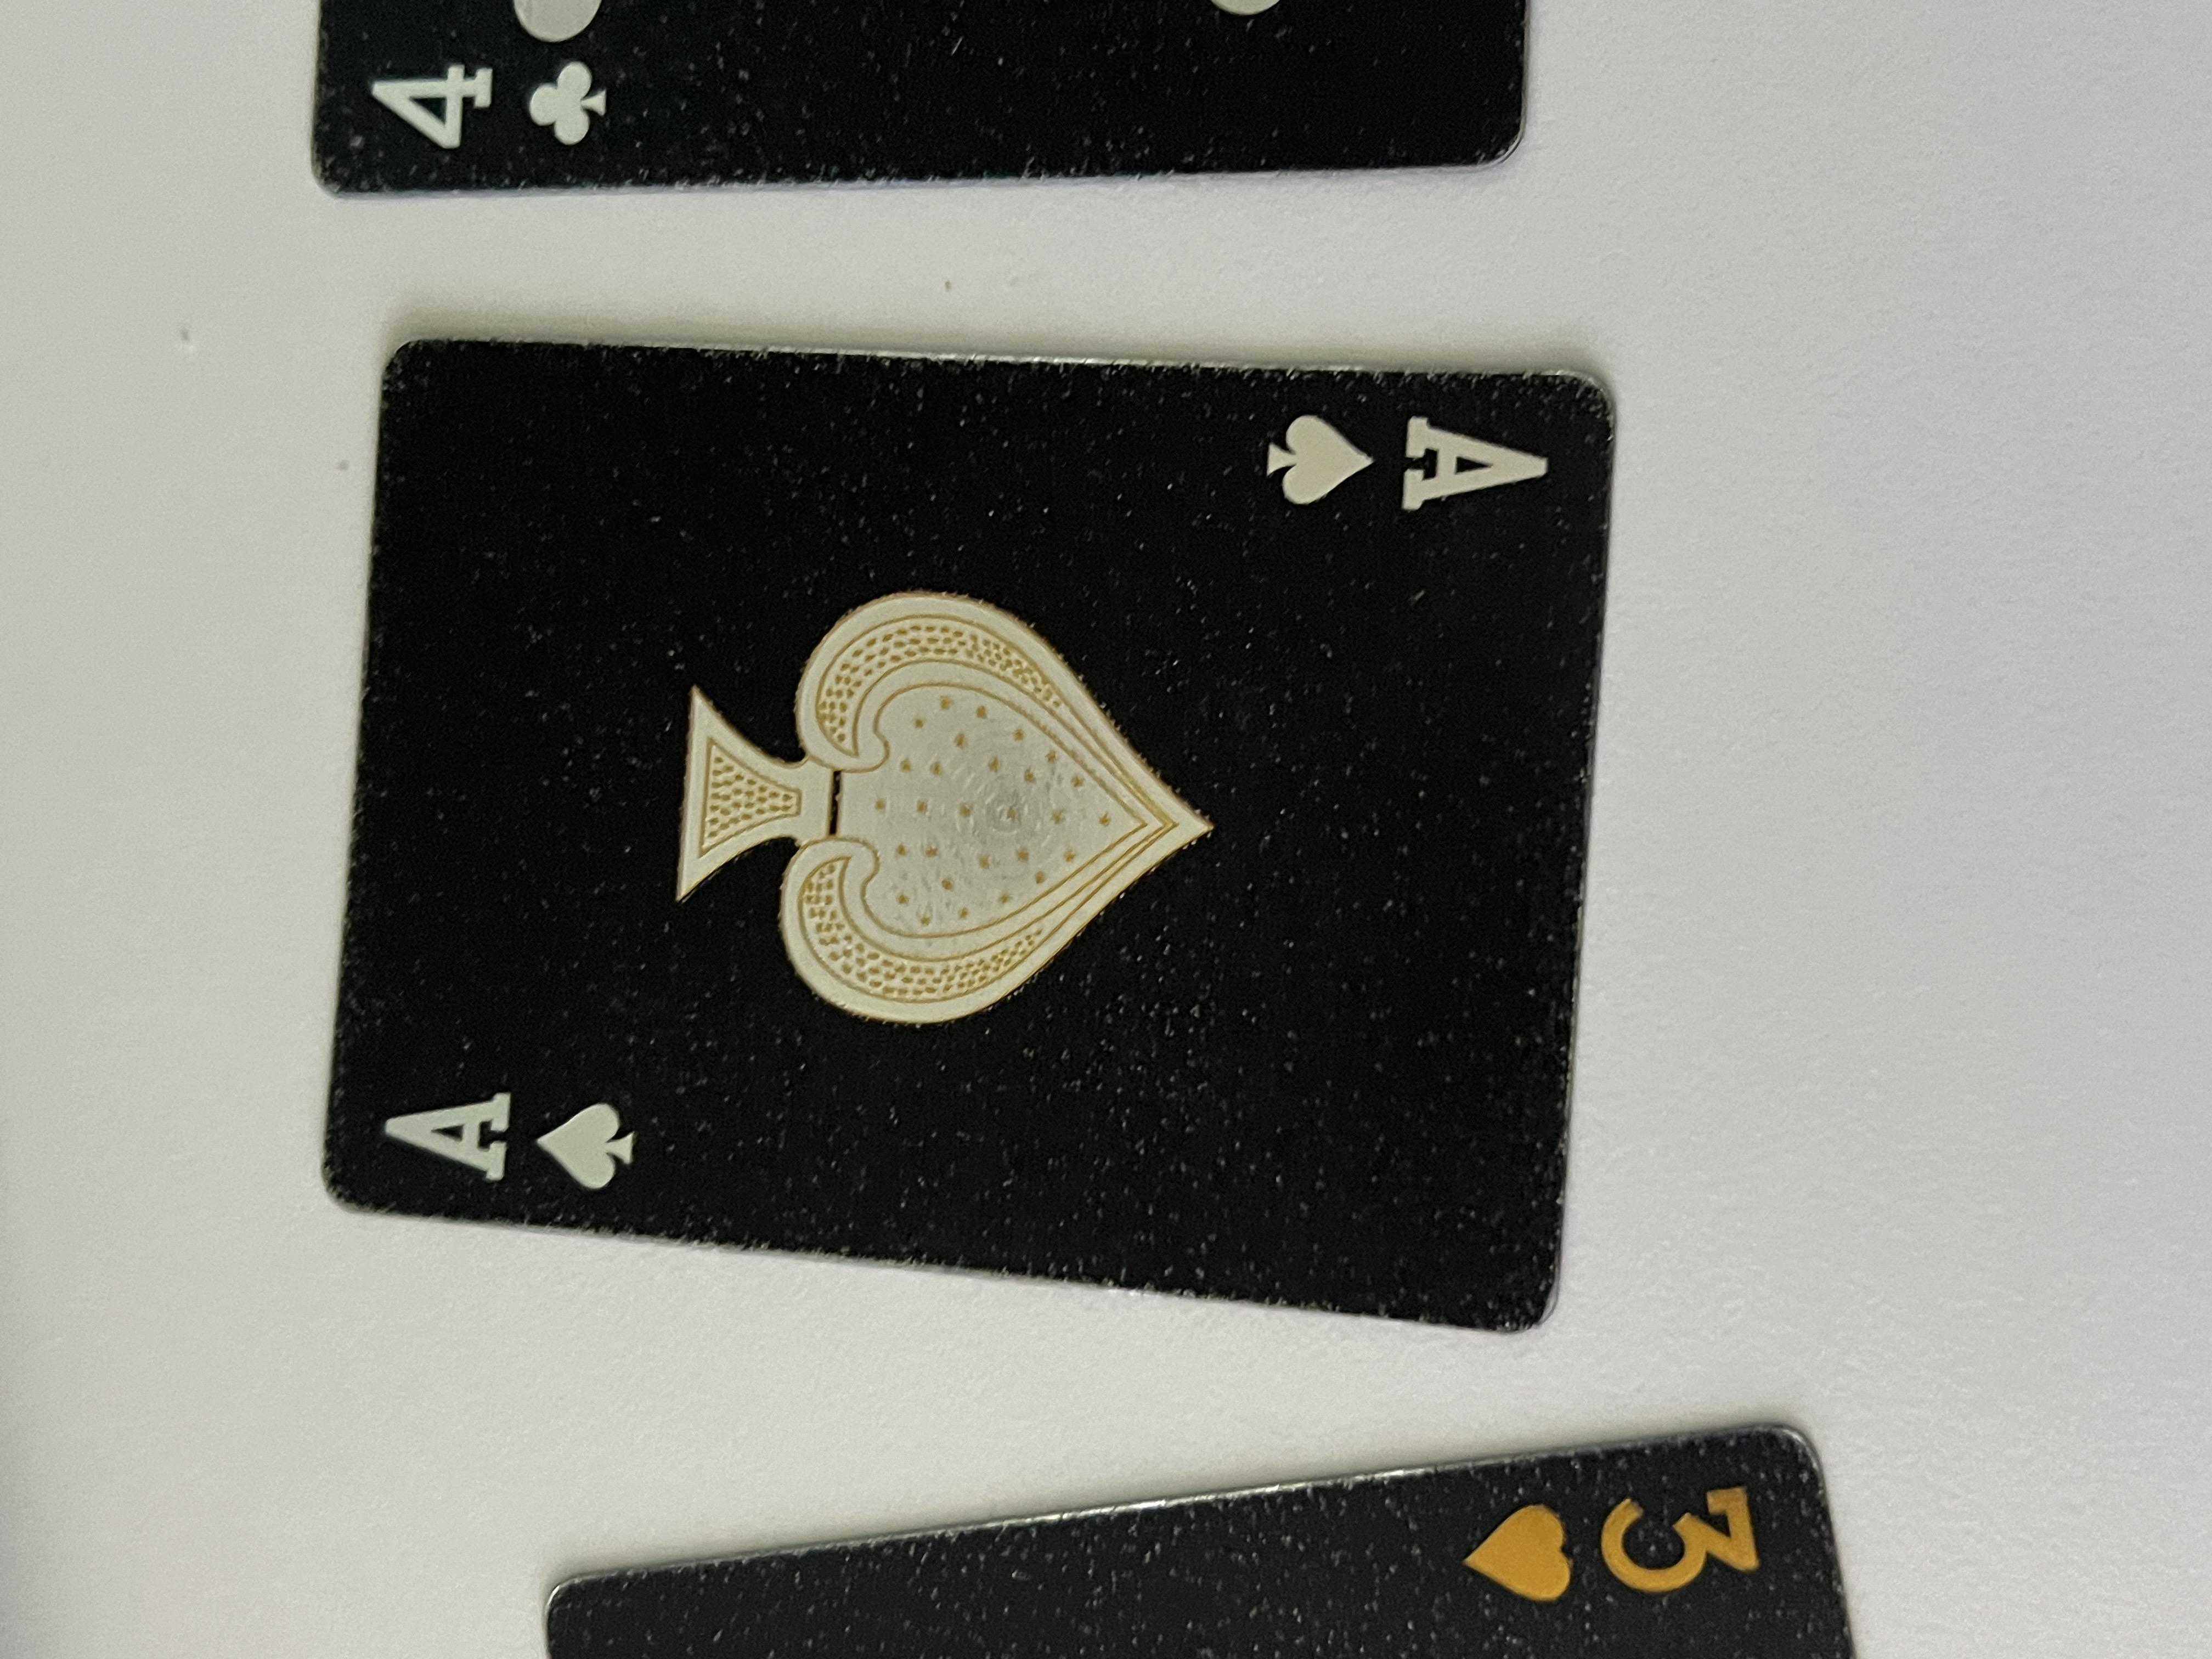3H: (63, 1098, 260, 1340)
4C: (1993, 251, 2151, 464)
AS: (618, 272, 782, 505), (1522, 931, 1672, 1182)
